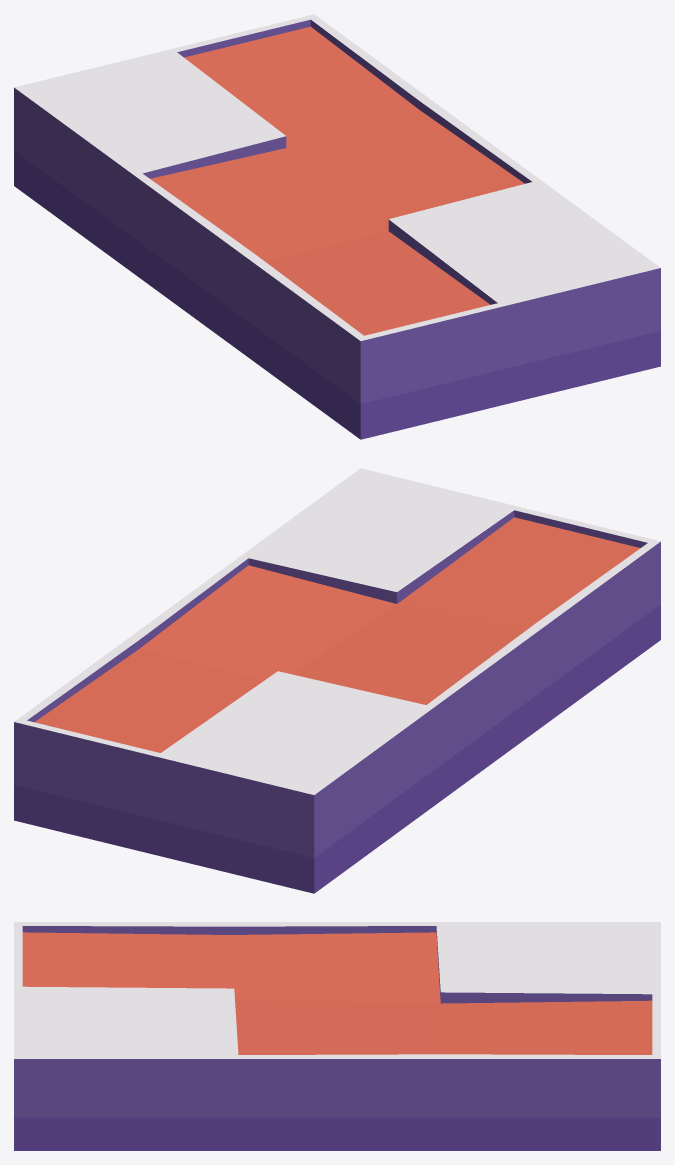
Rendered from Platfrom02.fbx.
3 views of the same model, one above another, from view 1: azimuth 30°, elevation 25°; view 2: azimuth 150°, elevation 25°; view 3: azimuth 270°, elevation 25° (orthographic). The views are drawn at different scales.
Parts seen in each view (by area): view 1: Platfrom02; view 2: Platfrom02; view 3: Platfrom02.
Boxes of the visible parts, x1=… form: Platfrom02: x1=14, y1=14, x2=660, y2=439; Platfrom02: x1=14, y1=468, x2=660, y2=893; Platfrom02: x1=14, y1=922, x2=660, y2=1150.
Bounding box in the file's own units: 500 × 157 × 1000.
